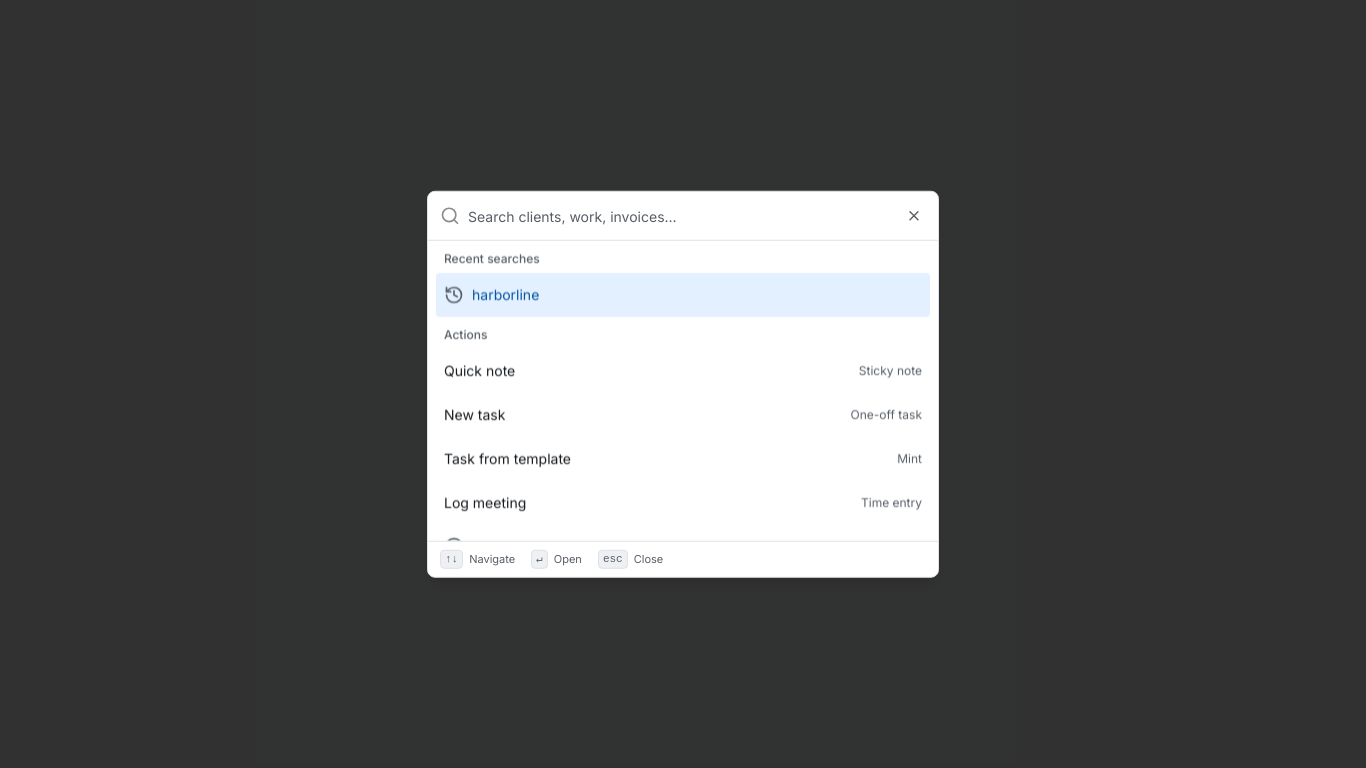
CommandMenu palette › shows recent searches when the query is empty and applies one on select
Expected: the text "Recent searches" is shown, [444,251,540,266]
Click the option "harborline".
click(506, 294)  # box [436,273,930,317]
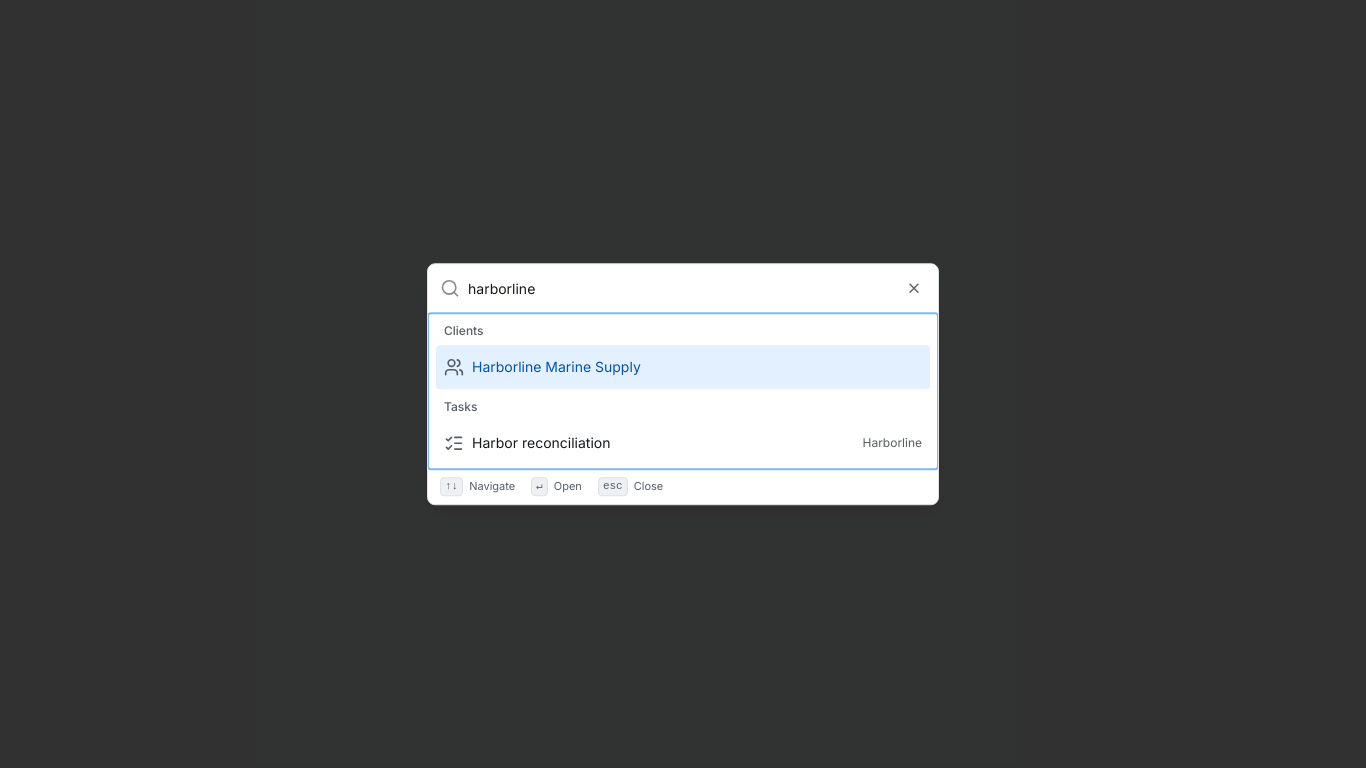
Now the dropdown with placeholder "Search clients, work, invoices…" holds "harborline", box [468,264,926,312]
